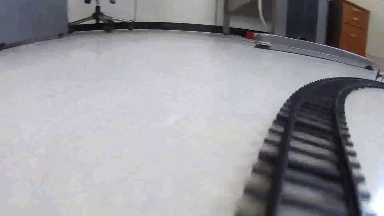tree: (370, 69, 384, 80)
